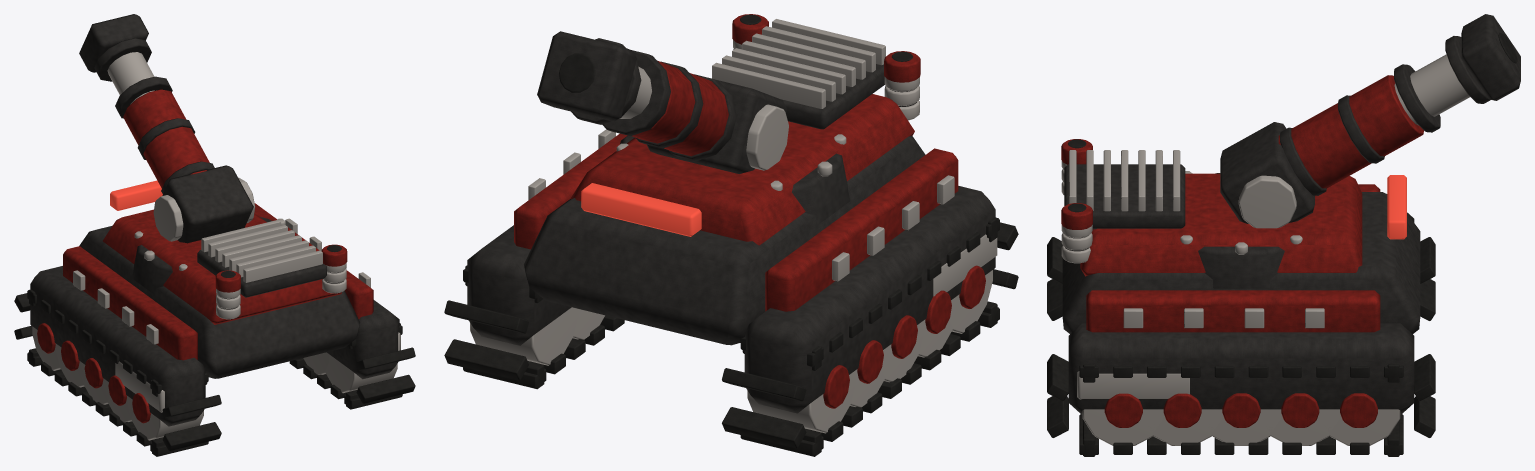
Rendered from kharn_obusier.gltf.
3 renders of one model, left to right at view 1: azimuth 30°, elevation 25°; view 2: azimuth 150°, elevation 25°; view 3: azimuth 270°, elevation 25°, orthographic. The views are drawn at different scales.
Visible parts, largest first — view 1: Root.030_Geometry, GunRecoil.012_Geometry, GunPitch.016_Geometry, Track_-0.85_0.002_Geometry, Track_0.85_0.002_Geometry, Wheel_-0.84535_0.002_Geometry, Wheel_0.84535_0.002_Geometry, Wheel_-0.84535_2.002_Geometry, Wheel_-0.84535_3.002_Geometry, Wheel_-0.84535_1.002_Geometry, Wheel_-0.84535_4.002_Geometry; view 2: Root.030_Geometry, GunRecoil.012_Geometry, Track_-0.85_0.002_Geometry, Track_0.85_0.002_Geometry, GunPitch.016_Geometry, Wheel_-0.84535_4.002_Geometry, Wheel_0.84535_4.002_Geometry, Wheel_-0.84535_2.002_Geometry, Wheel_-0.84535_0.002_Geometry, Wheel_-0.84535_1.002_Geometry, Wheel_-0.84535_3.002_Geometry, Wheel_0.84535_3.002_Geometry; view 3: Root.030_Geometry, GunRecoil.012_Geometry, Track_0.85_0.002_Geometry, GunPitch.016_Geometry, Wheel_0.84535_0.002_Geometry, Wheel_0.84535_4.002_Geometry, Wheel_0.84535_2.002_Geometry, Wheel_0.84535_3.002_Geometry, Wheel_0.84535_1.002_Geometry, Track_-0.85_0.002_Geometry.
Boxes of the visible parts, x1,y1,x2,y2 form: Root.030_Geometry: (30,180,400,426); GunRecoil.012_Geometry: (79,14,214,193); GunPitch.016_Geometry: (153,165,255,243); Track_-0.85_0.002_Geometry: (14,289,221,456); Track_0.85_0.002_Geometry: (289,323,415,409); Wheel_-0.84535_0.002_Geometry: (127,393,203,440); Wheel_0.84535_0.002_Geometry: (325,354,397,393); Wheel_-0.84535_2.002_Geometry: (80,358,109,404); Wheel_-0.84535_3.002_Geometry: (56,340,85,387); Wheel_-0.84535_1.002_Geometry: (103,375,133,422); Wheel_-0.84535_4.002_Geometry: (32,323,62,370); Root.030_Geometry: (467,14,997,413); GunRecoil.012_Geometry: (537,31,736,161); Track_-0.85_0.002_Geometry: (722,217,1018,456); Track_0.85_0.002_Geometry: (444,265,624,389); GunPitch.016_Geometry: (647,80,788,173); Wheel_-0.84535_4.002_Geometry: (747,365,855,433); Wheel_0.84535_4.002_Geometry: (470,307,579,365); Wheel_-0.84535_2.002_Geometry: (881,315,924,382); Wheel_-0.84535_0.002_Geometry: (949,265,992,333); Wheel_-0.84535_1.002_Geometry: (916,290,958,357); Wheel_-0.84535_3.002_Geometry: (850,340,885,407); Wheel_0.84535_3.002_Geometry: (572,309,604,339); Root.030_Geometry: (1061,139,1420,414); GunRecoil.012_Geometry: (1278,14,1520,195); Track_0.85_0.002_Geometry: (1047,354,1435,456); GunPitch.016_Geometry: (1220,122,1314,228); Wheel_0.84535_0.002_Geometry: (1082,393,1162,445); Wheel_0.84535_4.002_Geometry: (1320,393,1400,445); Wheel_0.84535_2.002_Geometry: (1202,393,1280,445); Wheel_0.84535_3.002_Geometry: (1261,393,1339,445); Wheel_0.84535_1.002_Geometry: (1145,393,1221,445); Track_-0.85_0.002_Geometry: (1047,237,1435,320).
Bounding box in the file's own units: 2.15 × 2.4 × 2.89.
Materials: 5 (3 with a texture image).
